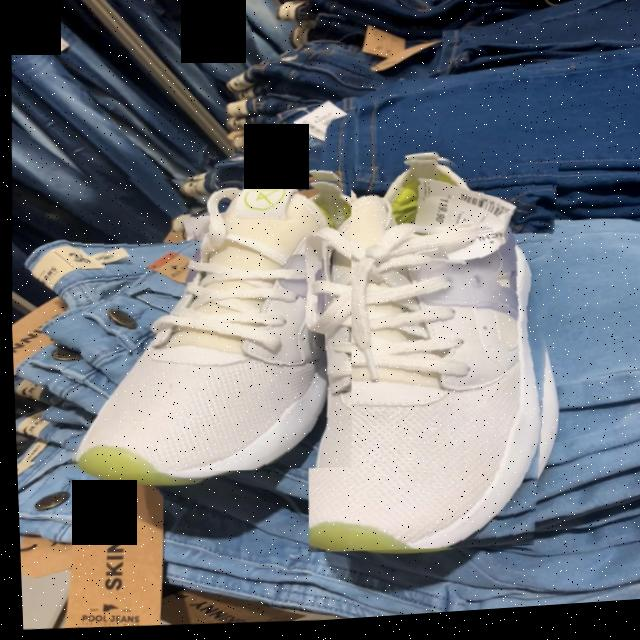shoe: (304, 165, 542, 555), (70, 182, 349, 475)
